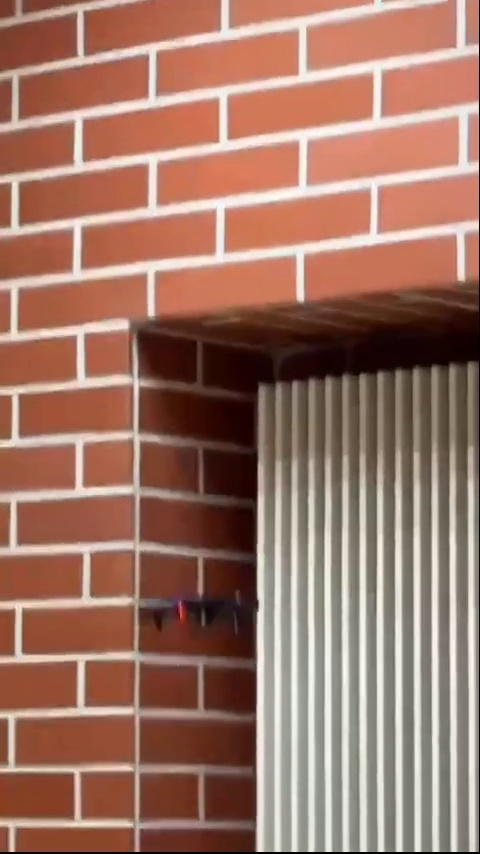drone: (134, 596, 262, 643)
